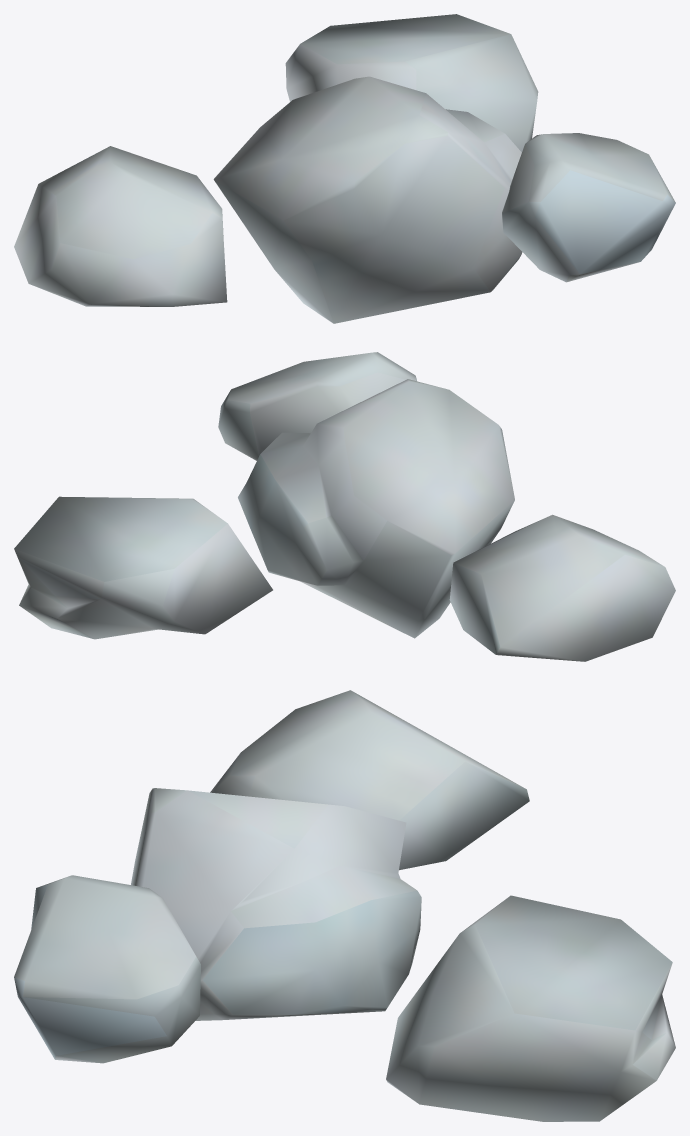
File: P_RockSpire_RockClump01.obj
The picture shows the model from 3 angles, top to bottom: view 1: azimuth 30°, elevation 25°; view 2: azimuth 150°, elevation 25°; view 3: azimuth 270°, elevation 25°; orthographic projection. The views are drawn at different scales.
Bounding box in the file's own units: 3.65 × 1.36 × 3.19.
